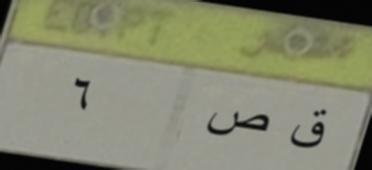6: (71, 72, 92, 116)
qaaf: (285, 103, 330, 154)
saad: (203, 101, 268, 144)
